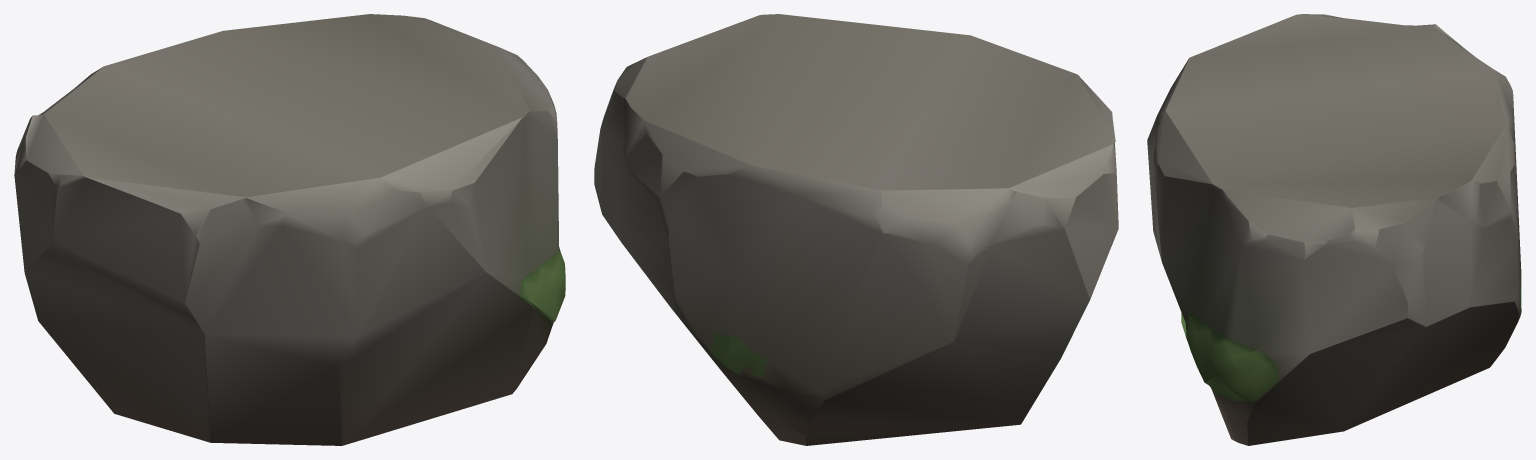
File: flat_stone.glb
3 views of the same model, side by side, from view 1: azimuth 30°, elevation 25°; view 2: azimuth 150°, elevation 25°; view 3: azimuth 270°, elevation 25° (orthographic). The views are drawn at different scales.
Visible parts, largest first — view 1: FlatStone; view 2: FlatStone; view 3: FlatStone.
Boxes of the visible parts, <box> form: FlatStone: <box>14,14,565,445</box>; FlatStone: <box>594,14,1118,445</box>; FlatStone: <box>1147,14,1521,445</box>.
Bounding box in the file's own units: 1.07 × 0.5908 × 0.7846.
